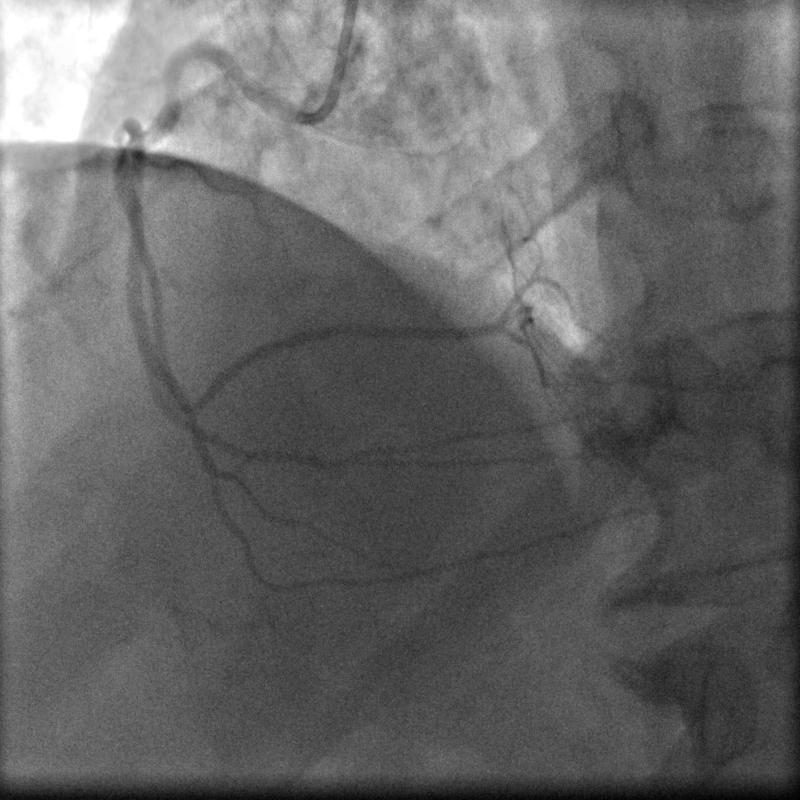Stenosis: (159, 75, 183, 111)
